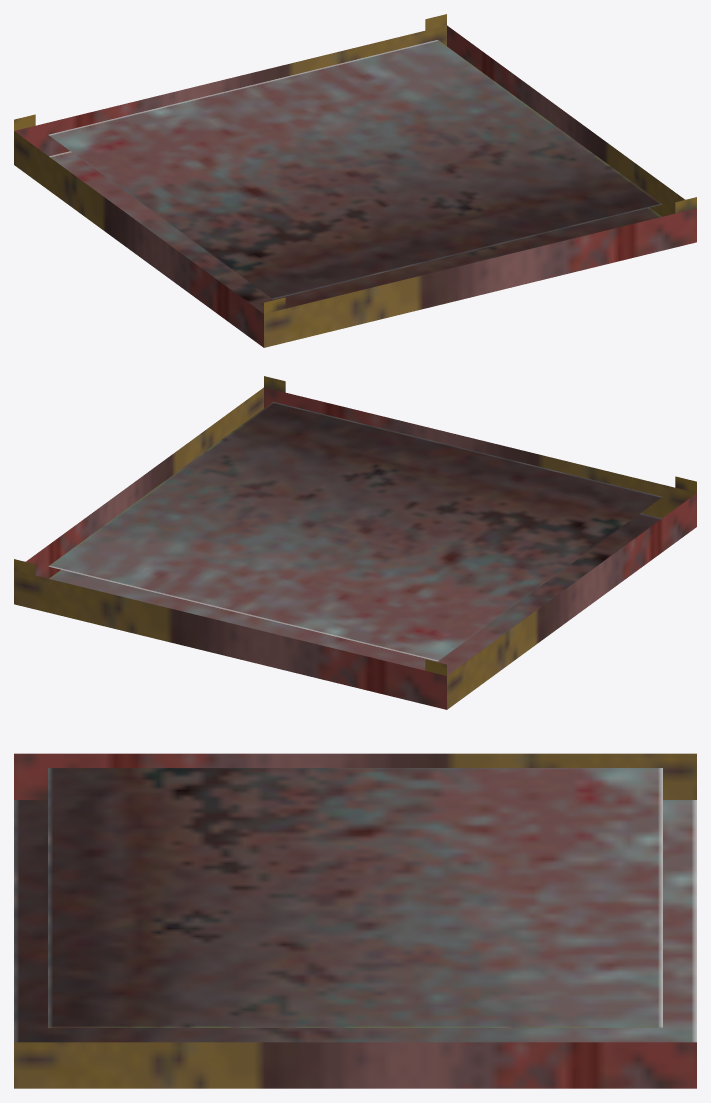
The model's file is SM_FLOOR_09.fbx.
3 views of the same model, one above another, from view 1: azimuth 30°, elevation 25°; view 2: azimuth 150°, elevation 25°; view 3: azimuth 270°, elevation 25° (orthographic). The views are drawn at different scales.
Visible parts, largest first — view 1: SM_FLOOR_09; view 2: SM_FLOOR_09; view 3: SM_FLOOR_09.
Boxes of the visible parts, left/top/right/bottom form: SM_FLOOR_09: left=14, top=14, right=696, bottom=347; SM_FLOOR_09: left=14, top=376, right=696, bottom=709; SM_FLOOR_09: left=14, top=753, right=696, bottom=1088.
Bounding box in the file's own units: 2 × 0.2 × 2.
